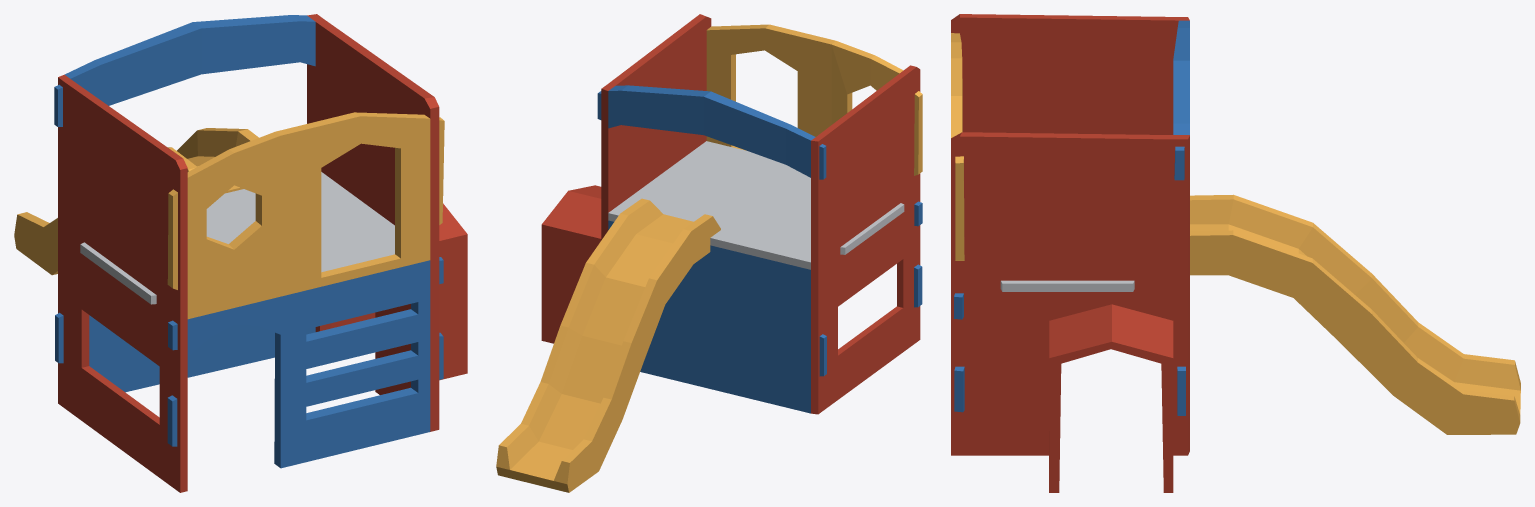
Rendered from SM_Prop_Playground_Fort_01.fbx.
The picture shows the model from 3 angles, left to right: view 1: azimuth 30°, elevation 25°; view 2: azimuth 150°, elevation 25°; view 3: azimuth 270°, elevation 25°; orthographic projection. The views are drawn at different scales.
Parts seen in each view (by area): view 1: SM_Prop_Playground_Fort_01; view 2: SM_Prop_Playground_Fort_01; view 3: SM_Prop_Playground_Fort_01.
Boxes of the visible parts, x1,y1,x2,y2 form: SM_Prop_Playground_Fort_01: (14, 14, 467, 492); SM_Prop_Playground_Fort_01: (496, 14, 922, 492); SM_Prop_Playground_Fort_01: (951, 14, 1520, 492).
Size of the model in its own units: 204 by 198 by 303.
